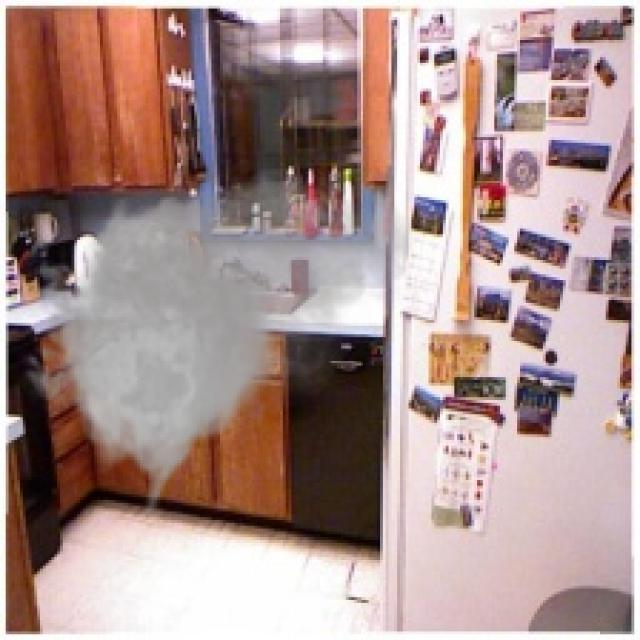smoke: (11, 157, 420, 529)
